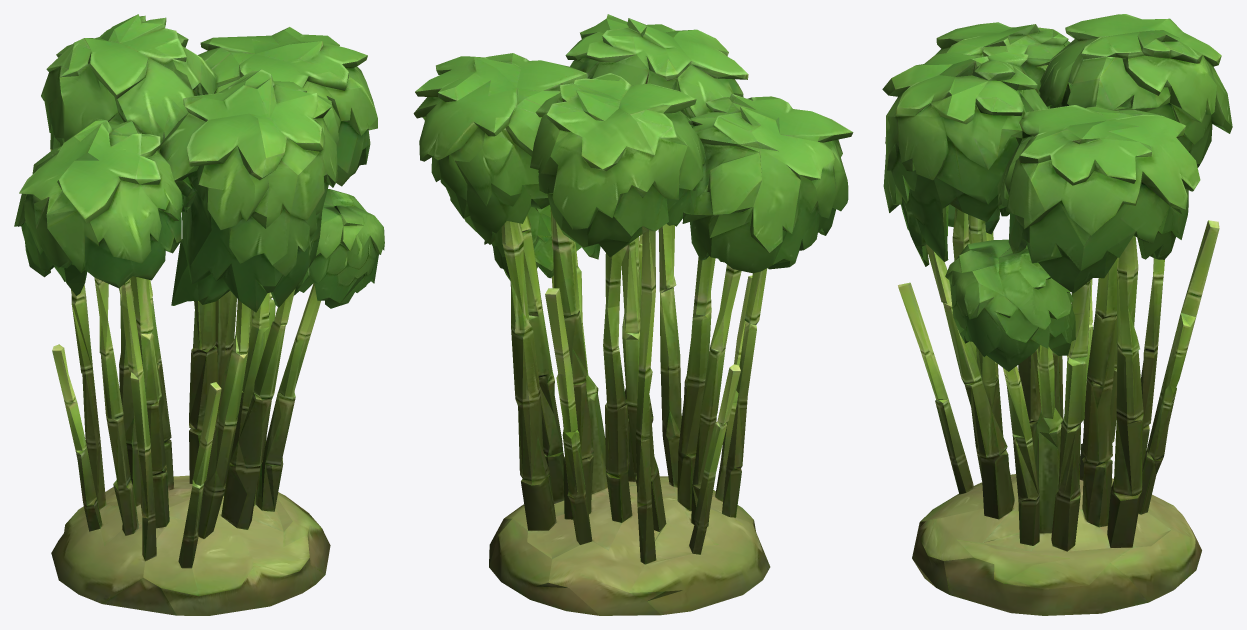
The model's file is bamboo.glb.
The picture shows the model from 3 angles, left to right: view 1: azimuth 30°, elevation 25°; view 2: azimuth 150°, elevation 25°; view 3: azimuth 270°, elevation 25°; orthographic projection. The views are drawn at different scales.
Size of the model in its own units: 1.44 by 1.89 by 1.16.
1 material, 1 textured.
